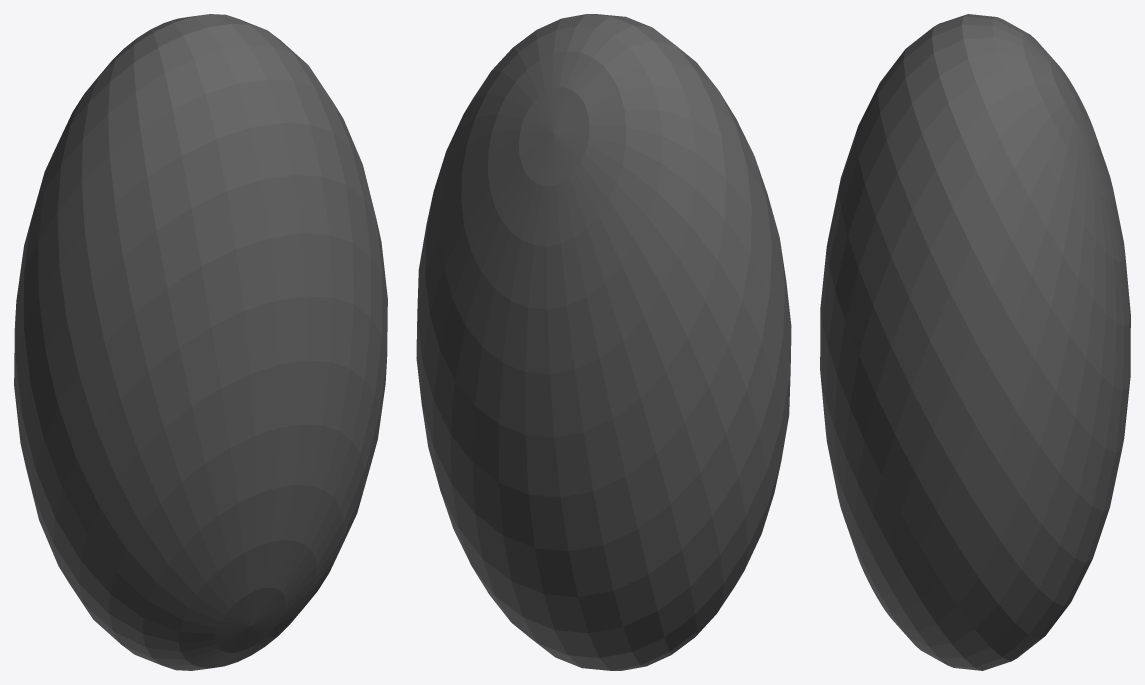
File: link_leg_1_L_2_composite.obj
3 views of the same model, side by side, from view 1: azimuth 30°, elevation 25°; view 2: azimuth 150°, elevation 25°; view 3: azimuth 270°, elevation 25° (orthographic).
Parts seen in each view (by area): view 1: link_leg_1_L_2; view 2: link_leg_1_L_2; view 3: link_leg_1_L_2.
Part boxes in pixels (<box>): link_leg_1_L_2: <box>14,14,387,670</box>; link_leg_1_L_2: <box>416,14,791,670</box>; link_leg_1_L_2: <box>820,14,1130,670</box>.
Bounding box in the file's own units: 3.78 × 6.78 × 3.01.
1 material, 1 textured.
